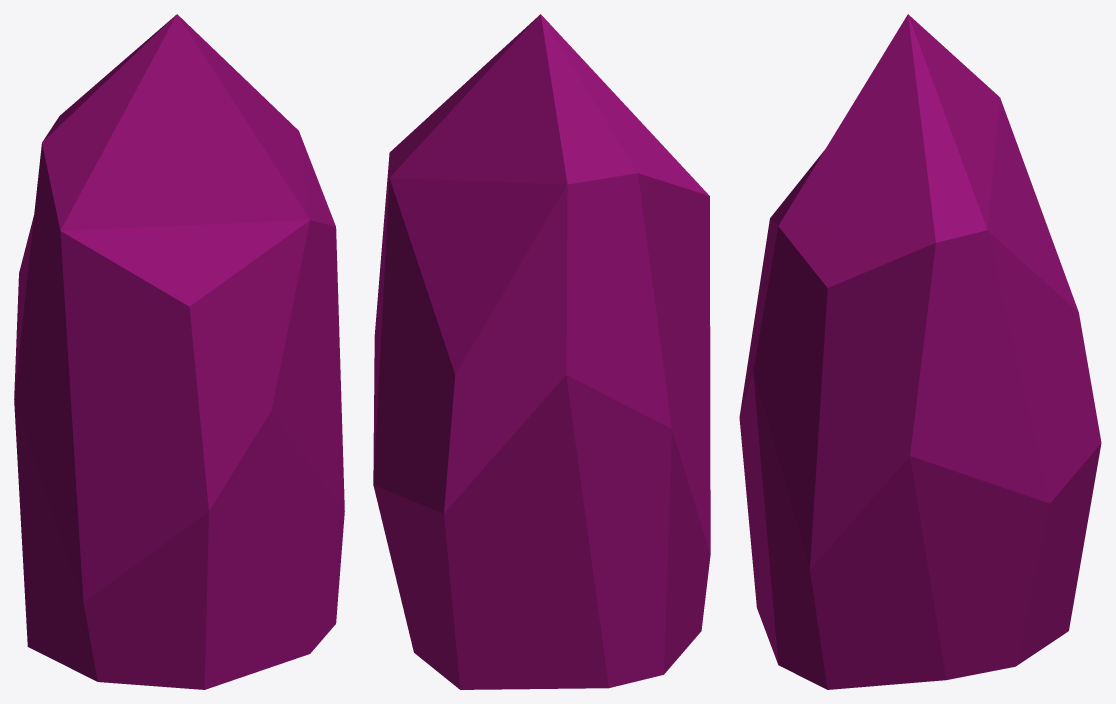
The model's file is GolemCrystal1.fbx.
The picture shows the model from 3 angles, left to right: view 1: azimuth 30°, elevation 25°; view 2: azimuth 150°, elevation 25°; view 3: azimuth 270°, elevation 25°; orthographic projection.
Parts seen in each view (by area): view 1: GolemCrystal1; view 2: GolemCrystal1; view 3: GolemCrystal1.
Part boxes in pixels (box(x1,y1,x2,y2)): GolemCrystal1: box(14, 14, 344, 689); GolemCrystal1: box(373, 14, 710, 689); GolemCrystal1: box(739, 14, 1101, 689).
Size of the model in its own units: 125 by 236 by 125.
